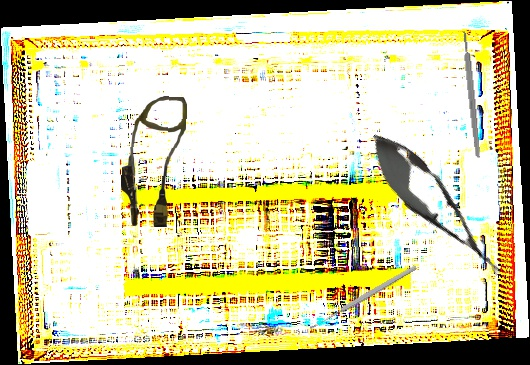Cannula: (119, 94, 188, 229)
Micro Scissor: (355, 121, 517, 289)
Scalpel Handle: (461, 30, 482, 159)
Surgical Spoon: (308, 263, 418, 332)
